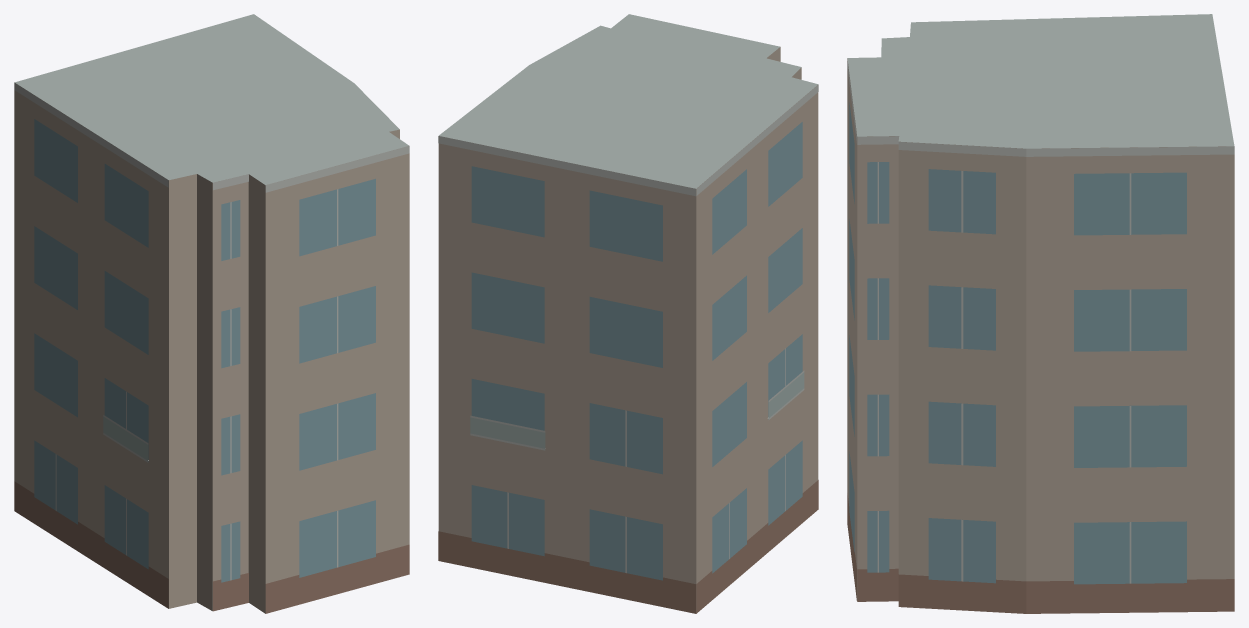
The model's file is survey-upis-32610124.glb.
3 renders of one model, left to right at view 1: azimuth 30°, elevation 25°; view 2: azimuth 150°, elevation 25°; view 3: azimuth 270°, elevation 25°, orthographic. The views are drawn at different scales.
Parts seen in each view (by area): view 1: survey-upis-32610124.tmp; view 2: survey-upis-32610124.tmp; view 3: survey-upis-32610124.tmp.
Boxes of the visible parts, x1,y1,x2,y2 form: survey-upis-32610124.tmp: [14, 14, 409, 613]; survey-upis-32610124.tmp: [438, 14, 818, 613]; survey-upis-32610124.tmp: [847, 14, 1234, 613].
Bounding box in the file's own units: 8.51 × 13.7 × 10.34.
